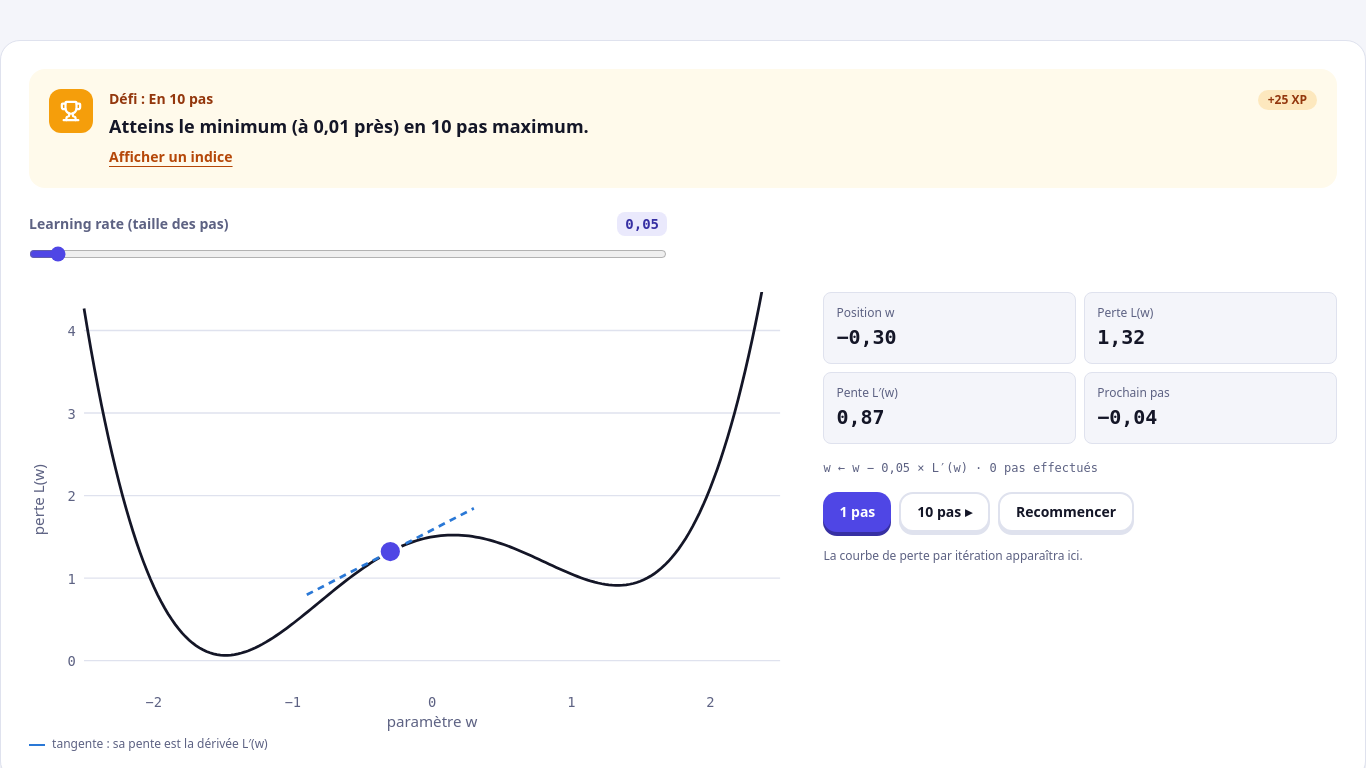
labos › GradientLab : 10 pas animés avec un bon learning rate valident gd-converge
The width and height of the screenshot is (1366, 768).
Set the slider labelled "Learning rate (taille des pas) 0,05" to "0.22". click: (147, 254)
box: [29,246,667,262]
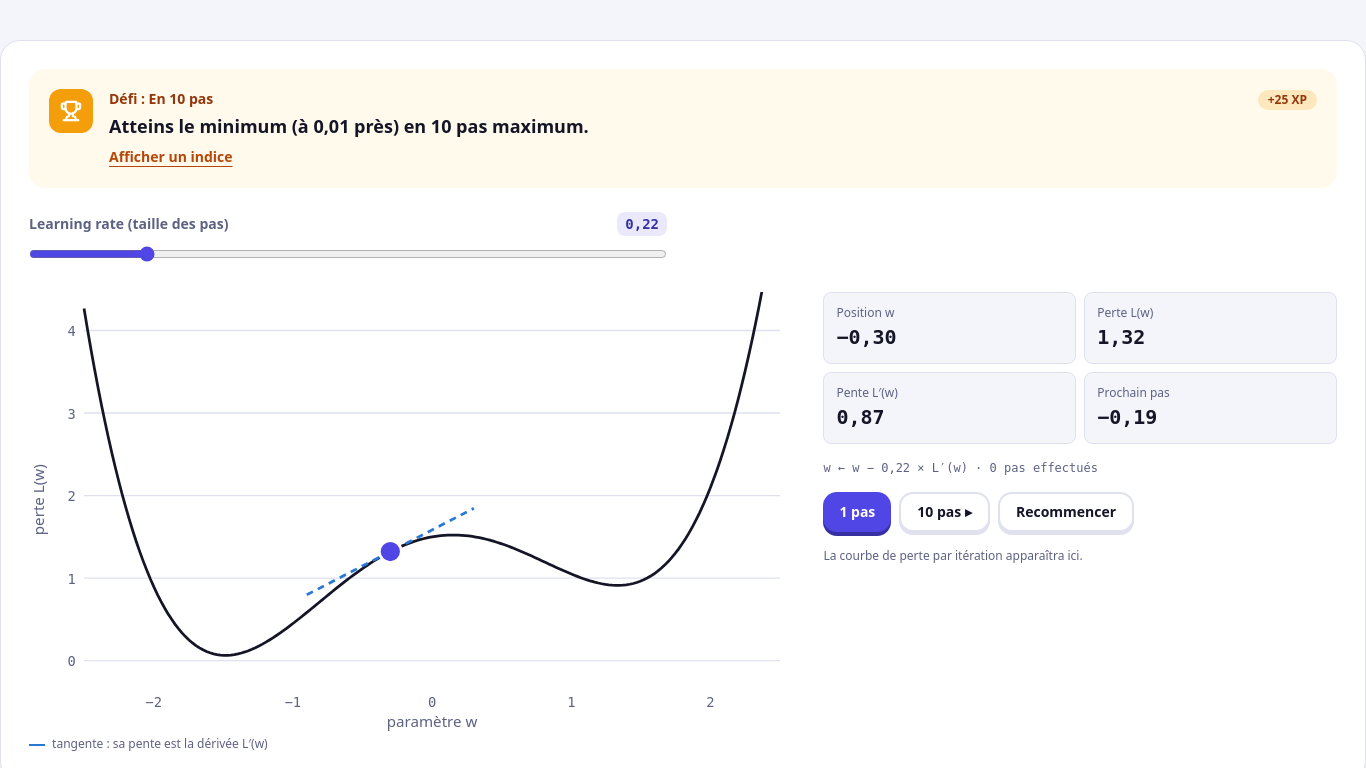
Click the button "10 pas ▸". click: (945, 512)
box: [899,492,990,532]
Wait 2040 ms
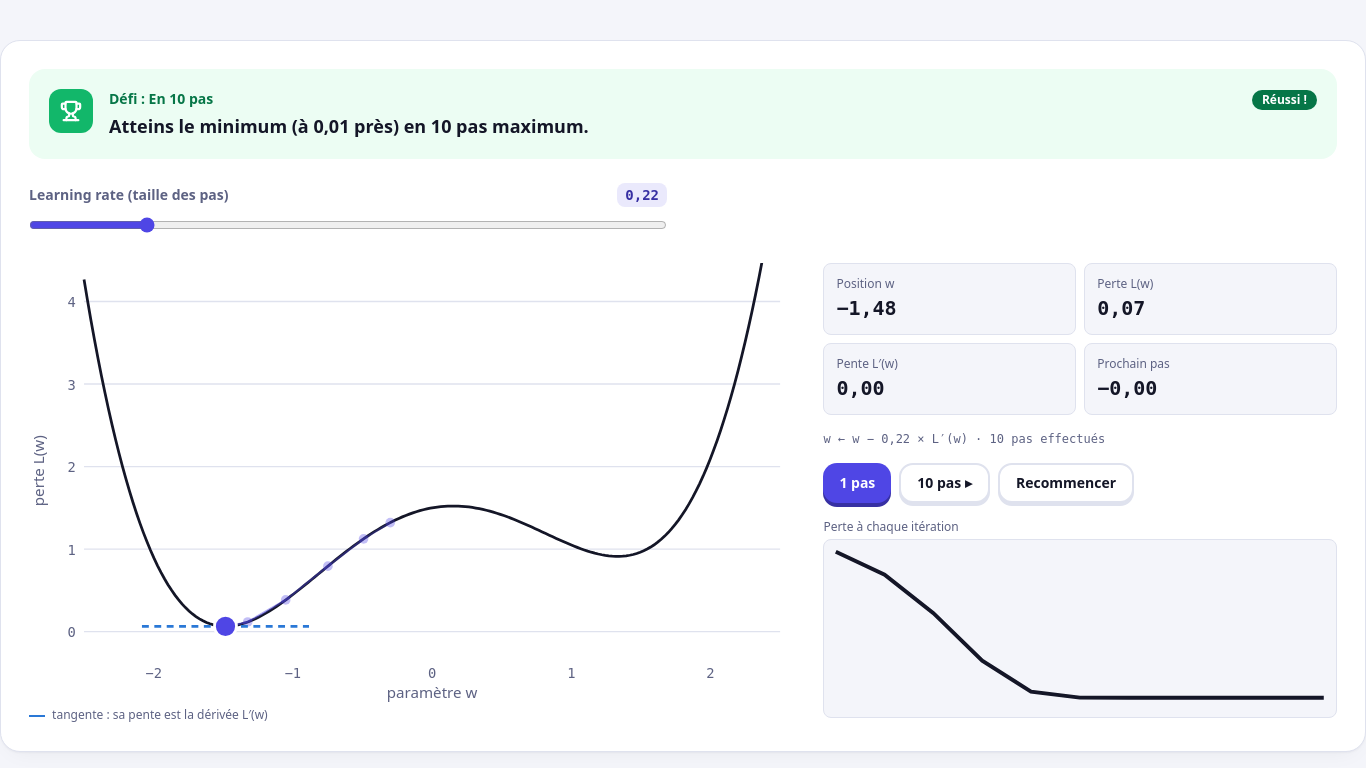
Expected: the text "w ← w − 0,22 × L′(w) · 10 pas effectués" is shown, [823,432,1105,446]
